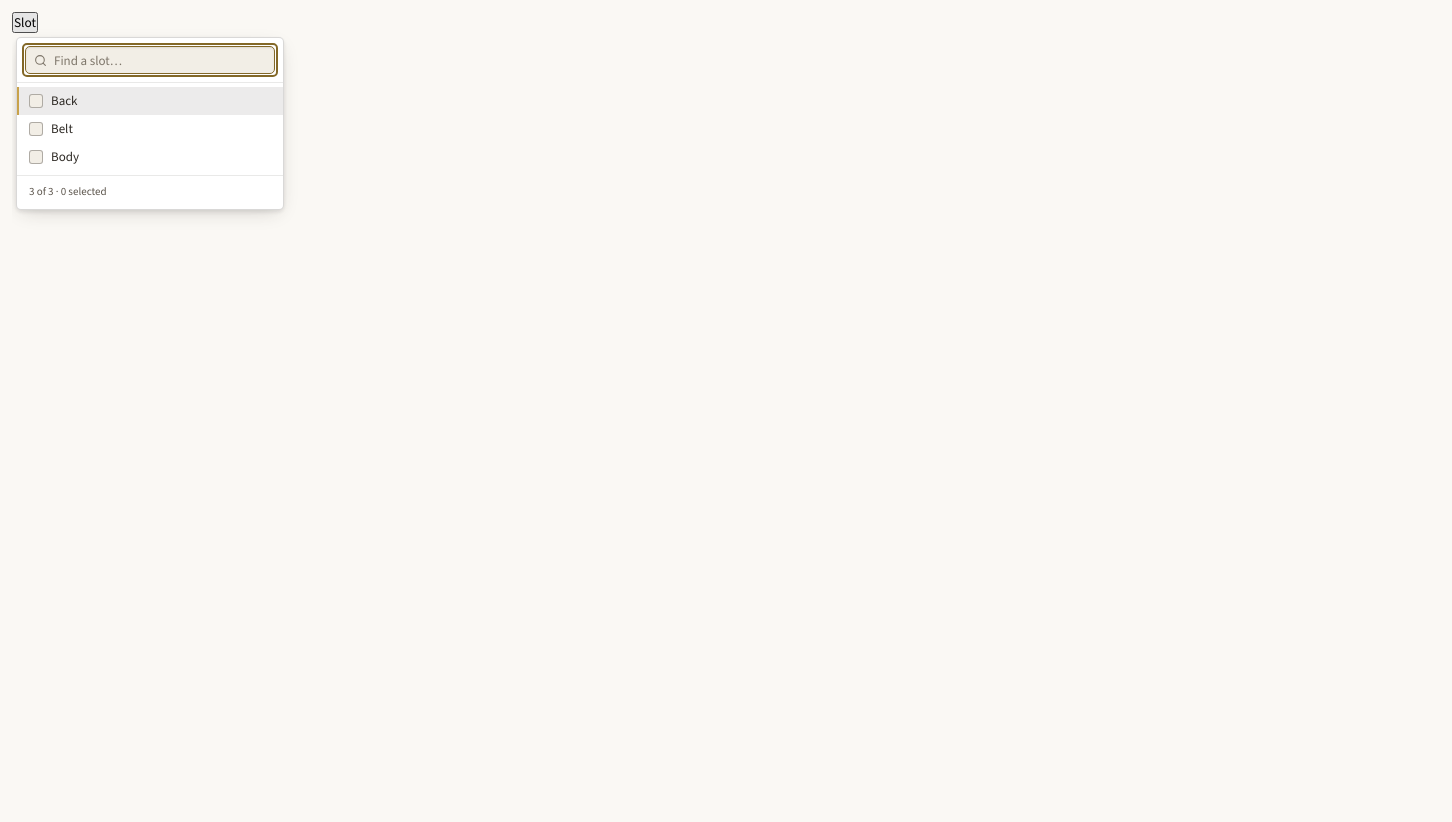
Test: Combobox › wraps ArrowDown and closes on an outside mousedown
Press Arrowdown Arrowdown Arrowdown
Click the element showing "Slot Back Belt Body 3 of 3 · 0 selected" at coordinates (732, 417), box [12,12,1451,821]
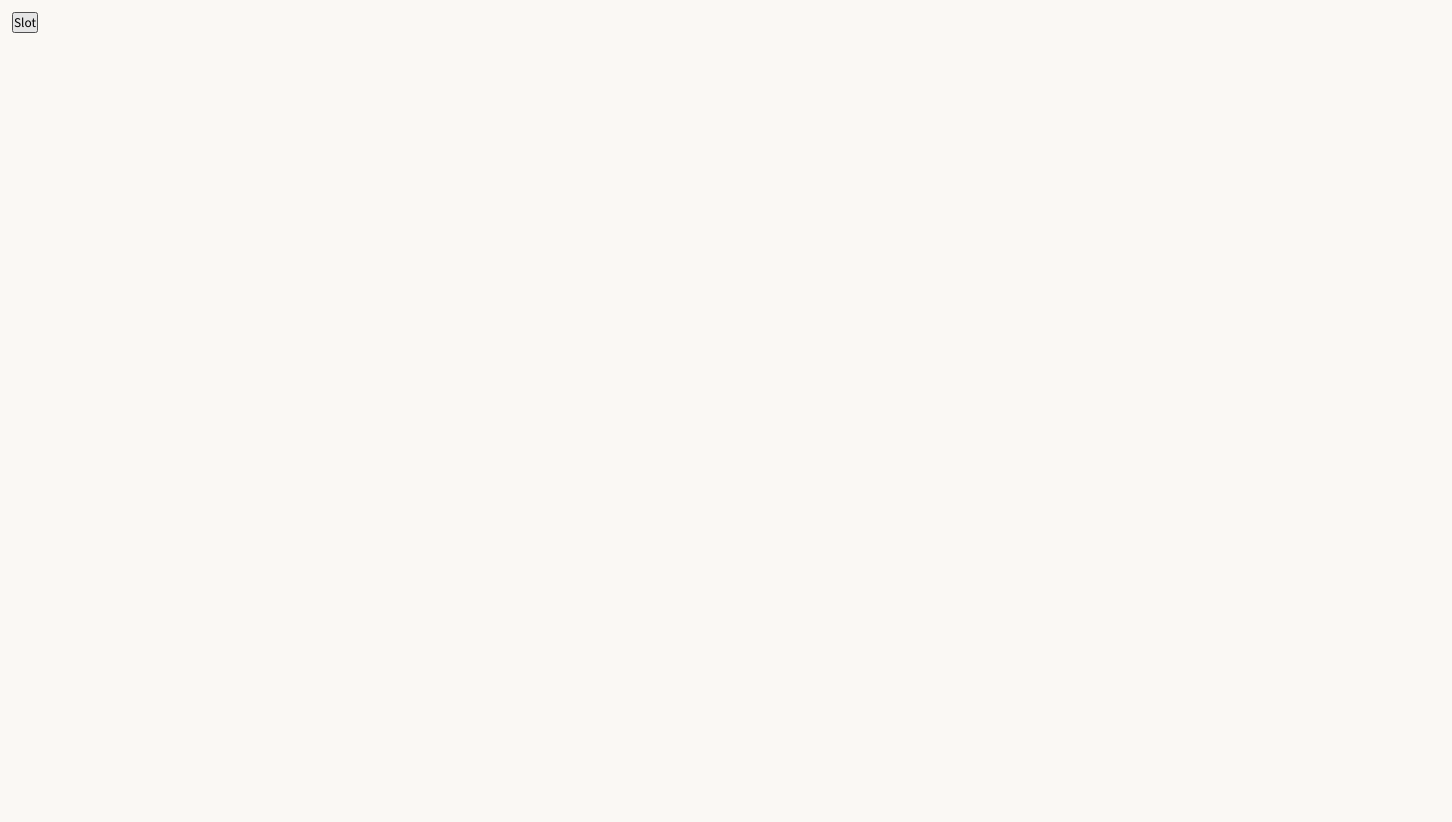
Expected: the dropdown is gone
